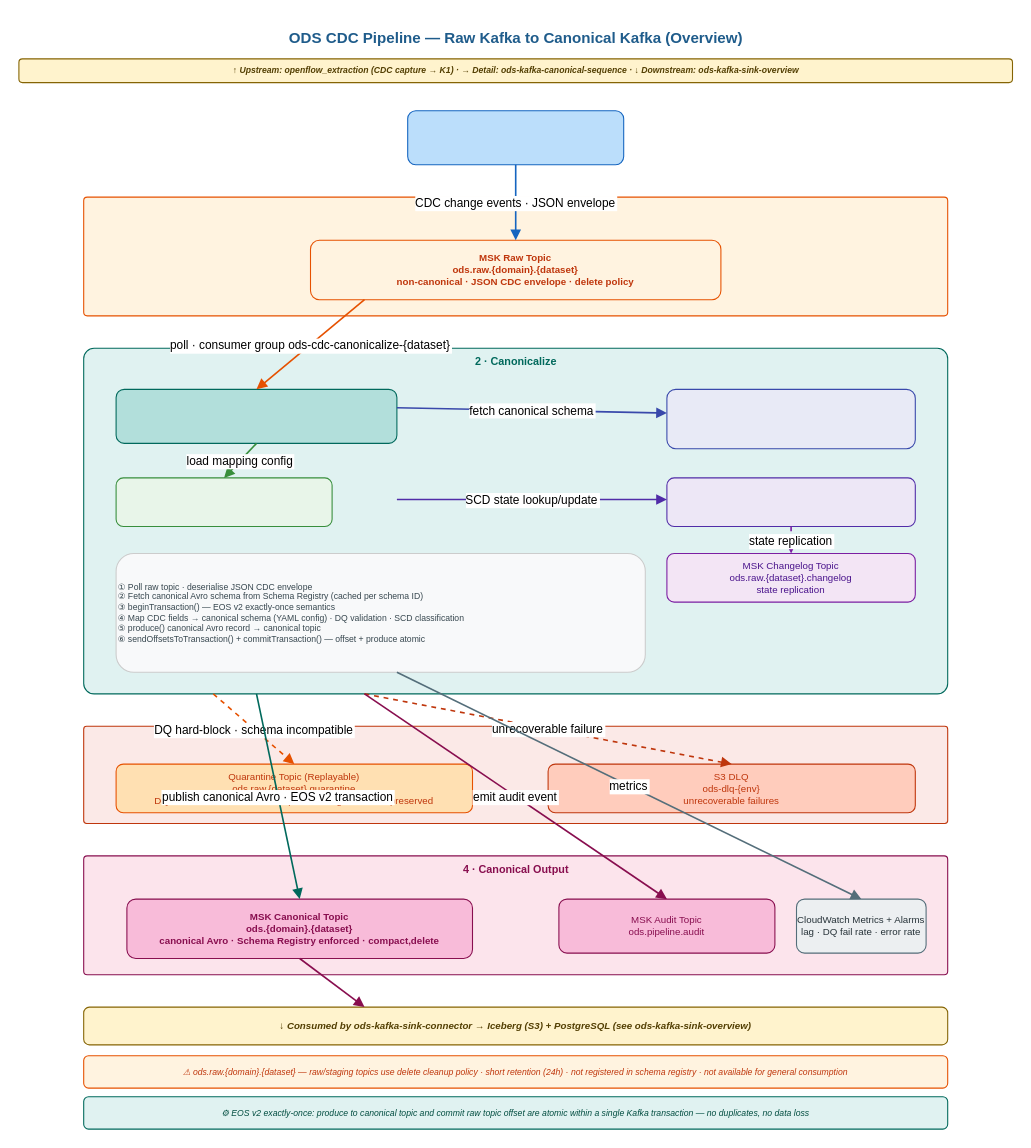
This 1031x1148 diagram has some shape labels left out. Here are the shapes that lost their labels. From the top down, the box of each, then its label:
(407, 110, 624, 165): CDC Source (OpenFlow · Debezium)
(83, 196, 948, 316): 1 · Raw Capture
(115, 388, 397, 443): ECS Kafka Streams Service ods-kafka-canonicalize-{dataset}
(666, 388, 915, 449): Glue Schema Registry ods-schema-registry-{env} canonical Avro schema
(115, 477, 332, 526): S3 Config field-mapping YAML · schema pins
(666, 477, 915, 526): RocksDB State Store local SCD / dedup window
(83, 725, 948, 824): 3 · Failure Routing
